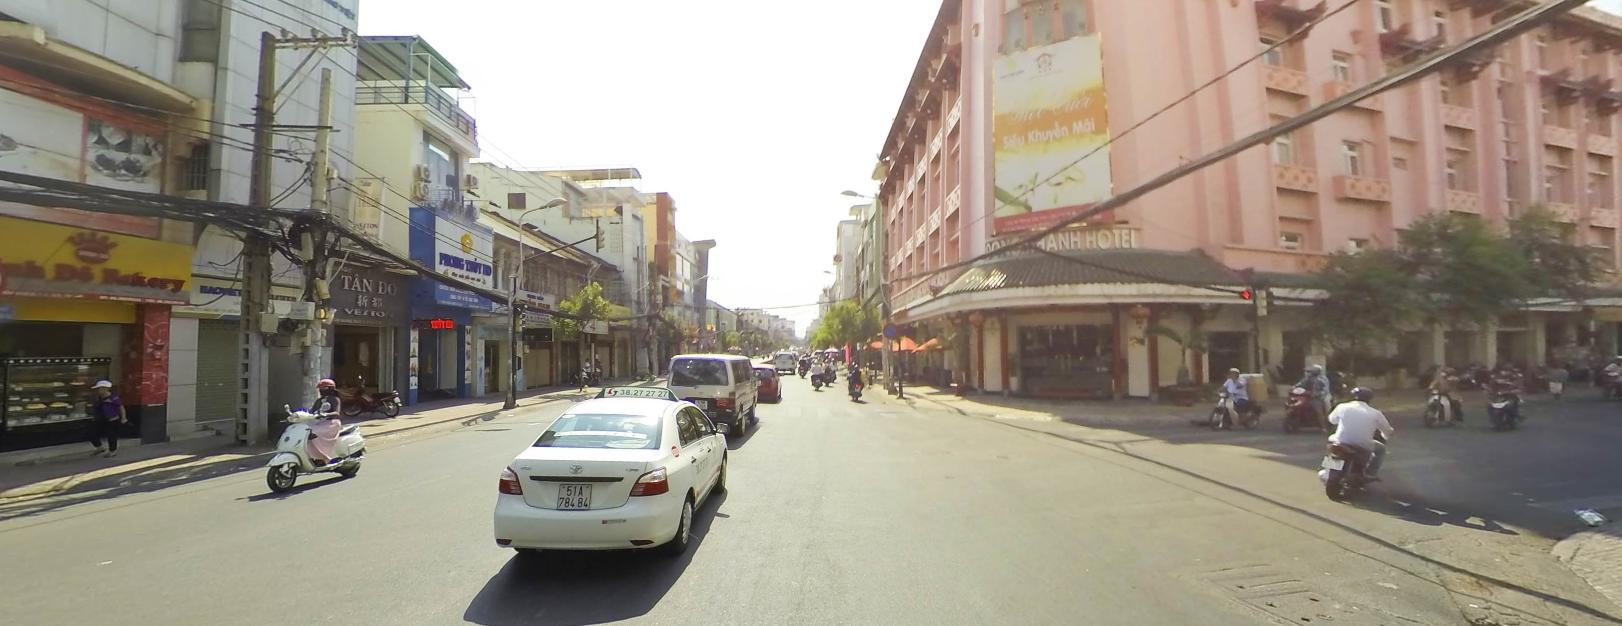Cam dung va do: (882, 321, 898, 336), (883, 322, 897, 336)
